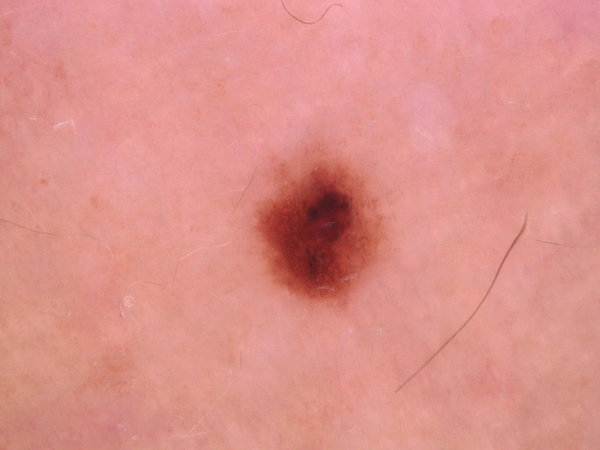Detected Lesion: (245, 147, 390, 309)
